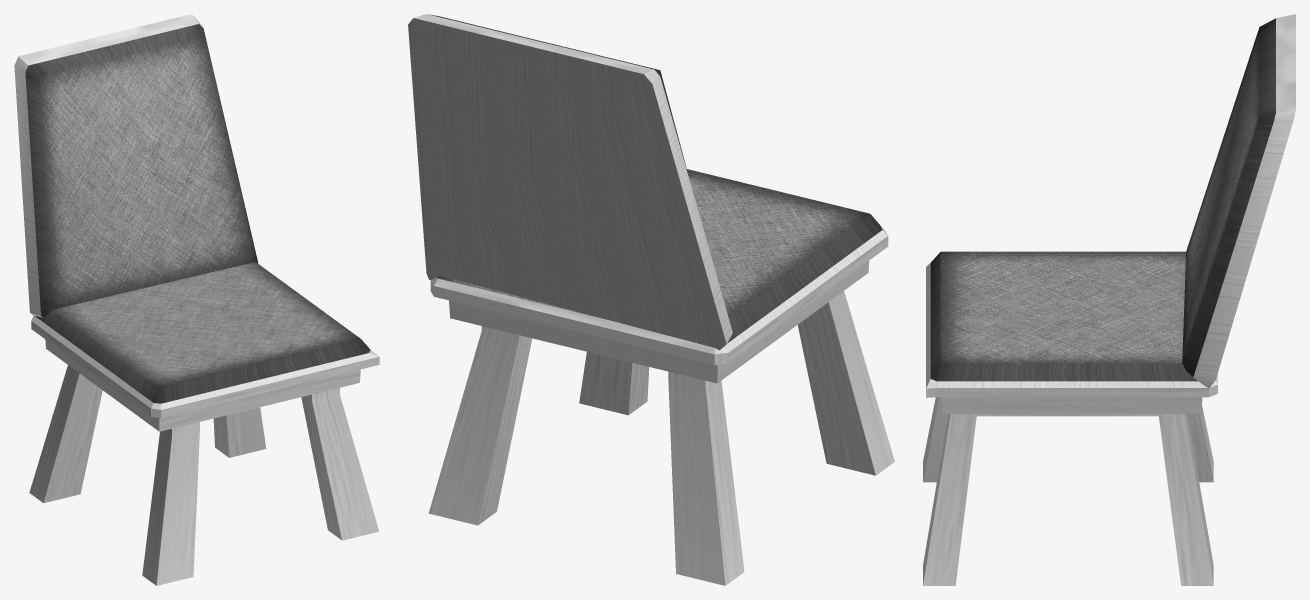
Rendered from Dining_Room_Chair_2.FBX.
3 views of the same model, side by side, from view 1: azimuth 30°, elevation 25°; view 2: azimuth 150°, elevation 25°; view 3: azimuth 270°, elevation 25° (orthographic). The views are drawn at different scales.
Parts seen in each view (by area): view 1: Dining_Chair; view 2: Dining_Chair; view 3: Dining_Chair.
Boxes of the visible parts, box(x1,y1,x2,y2) form: Dining_Chair: box(14, 14, 379, 585); Dining_Chair: box(408, 14, 894, 585); Dining_Chair: box(923, 14, 1295, 585).
Bounding box in the file's own units: 121 × 208 × 152.
